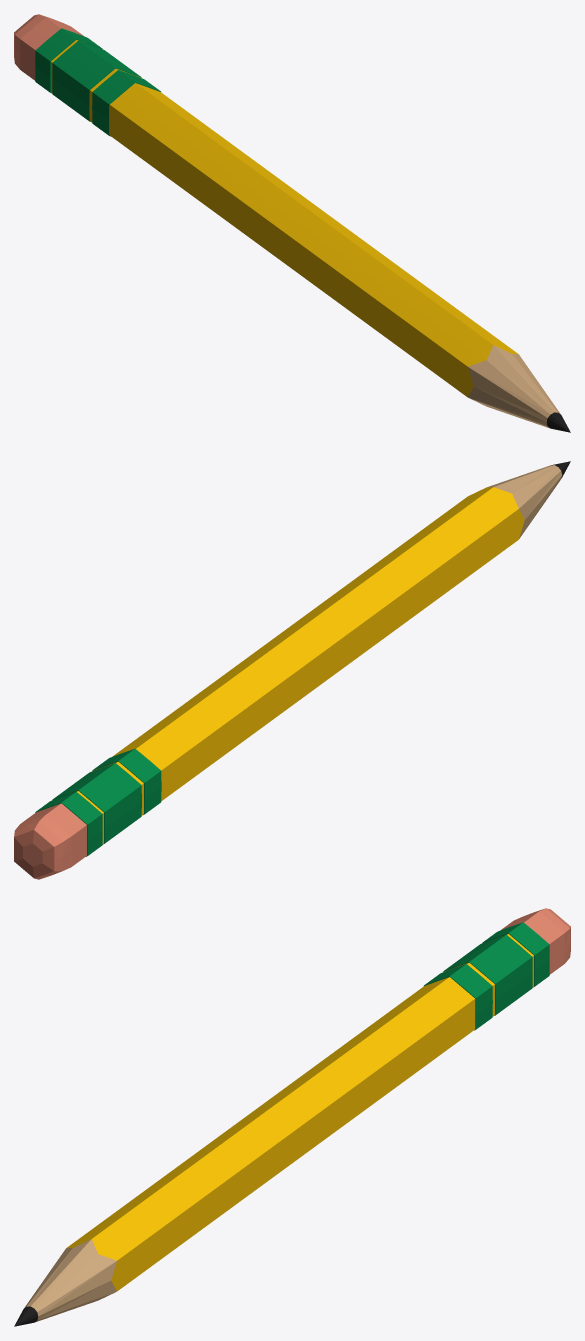
The model's file is pencil.gltf.
The picture shows the model from 3 angles, top to bottom: view 1: azimuth 30°, elevation 25°; view 2: azimuth 150°, elevation 25°; view 3: azimuth 330°, elevation 25°; orthographic projection.
Parts seen in each view (by area): view 1: node-0; view 2: node-0; view 3: node-0.
Part boxes in pixels (x1,y1,x2,y2): node-0: (14,14,570,432); node-0: (14,461,570,879); node-0: (14,908,570,1326).
Size of the model in its own units: 0.6894 by 0.7904 by 12.23.
